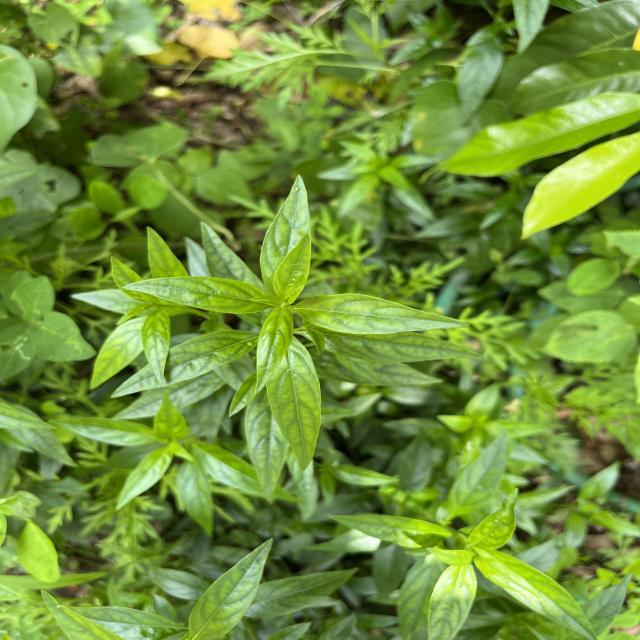Andrographis paniculata: (481, 548, 597, 640), (185, 535, 275, 640), (294, 292, 472, 337), (265, 334, 323, 472), (194, 441, 298, 503), (122, 274, 270, 316), (260, 172, 312, 286), (448, 428, 510, 518), (328, 512, 452, 550), (89, 317, 145, 392), (426, 559, 477, 640), (114, 446, 174, 512), (254, 306, 294, 396), (48, 416, 152, 448), (140, 308, 172, 384)
